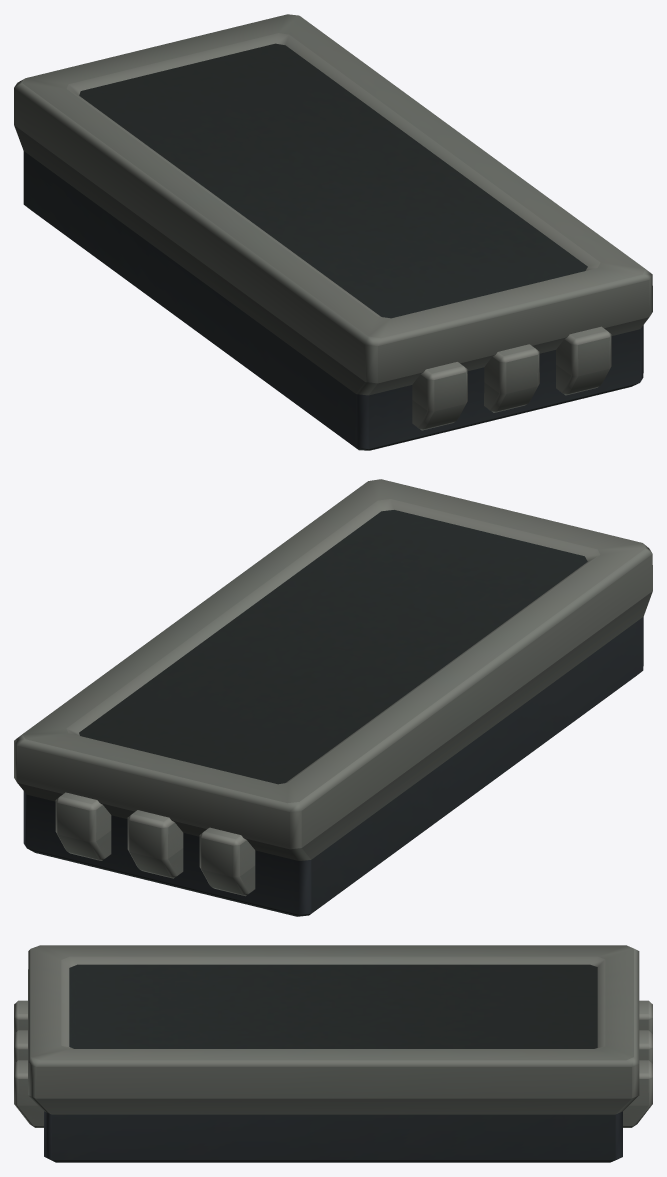
Rendered from appartment_type1_roof_type2_x2_flat_cream.fbx.
3 views of the same model, one above another, from view 1: azimuth 30°, elevation 25°; view 2: azimuth 150°, elevation 25°; view 3: azimuth 270°, elevation 25° (orthographic). The views are drawn at different scales.
Visible parts, largest first — view 1: appartment_type1_roof_type2_x2_flat_cream; view 2: appartment_type1_roof_type2_x2_flat_cream; view 3: appartment_type1_roof_type2_x2_flat_cream.
Boxes of the visible parts, x1,y1,x2,y2 form: appartment_type1_roof_type2_x2_flat_cream: (14, 14, 652, 450); appartment_type1_roof_type2_x2_flat_cream: (14, 479, 652, 916); appartment_type1_roof_type2_x2_flat_cream: (14, 945, 652, 1162).
Size of the model in its own units: 400 by 160 by 907.
